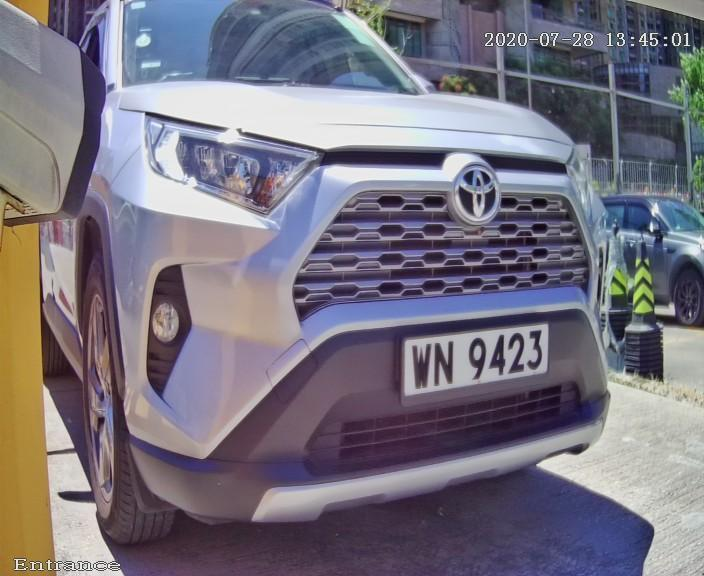privatecar: (19, 31, 698, 546)
